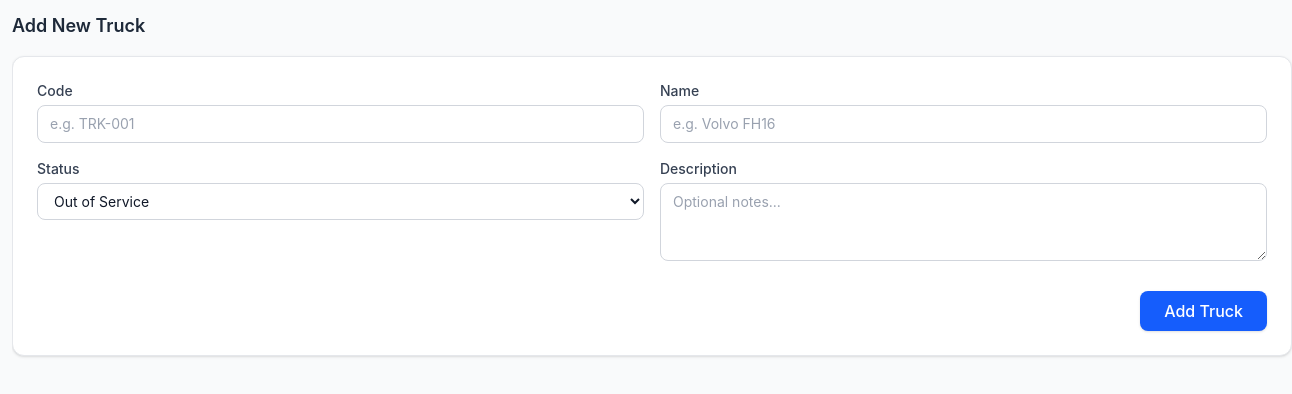
Scenario: AddTruck › shows validation error for name too short
In the field labelled "Code": (340, 124) [37,105,644,143], type "TRK-001"
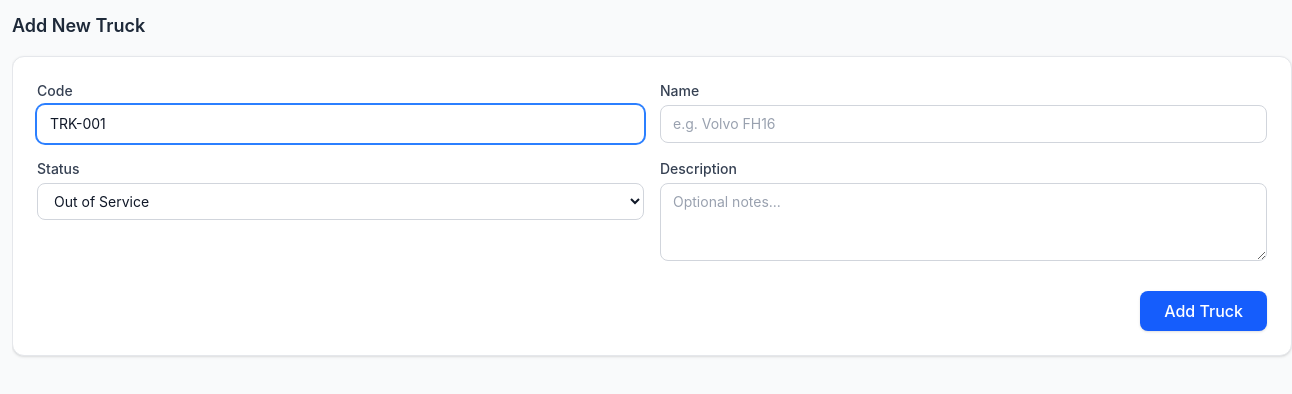
In the field labelled "Name": (964, 124) [660,105,1267,143], type "A"
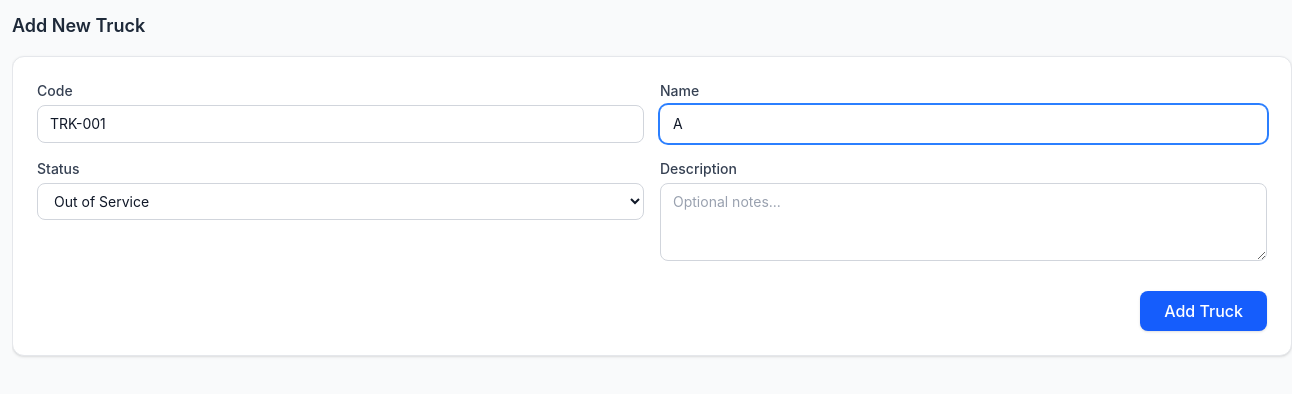
Click the button "Add Truck": (1204, 311) [1140,291,1267,331]
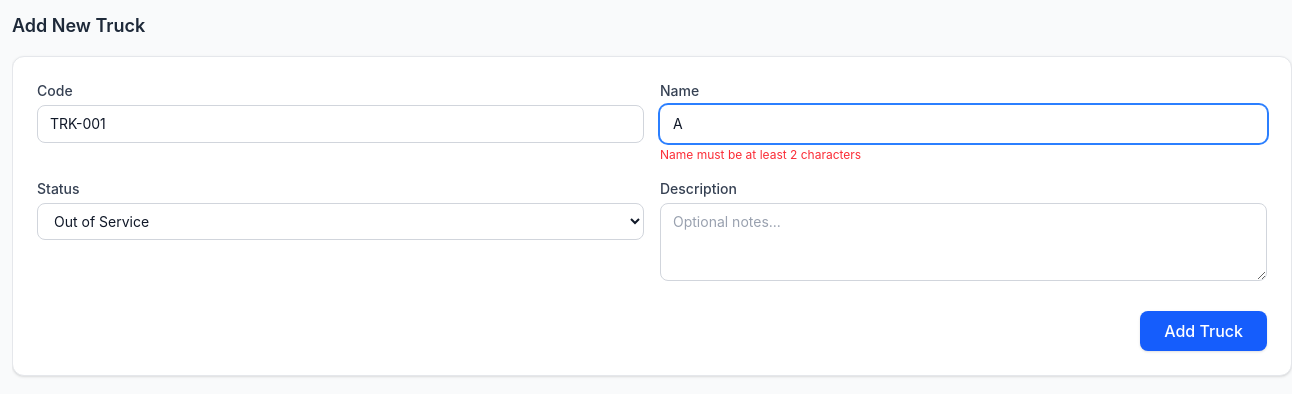
Expected: the text "Name must be at least 2 characters" is shown, [660,147,861,162]
